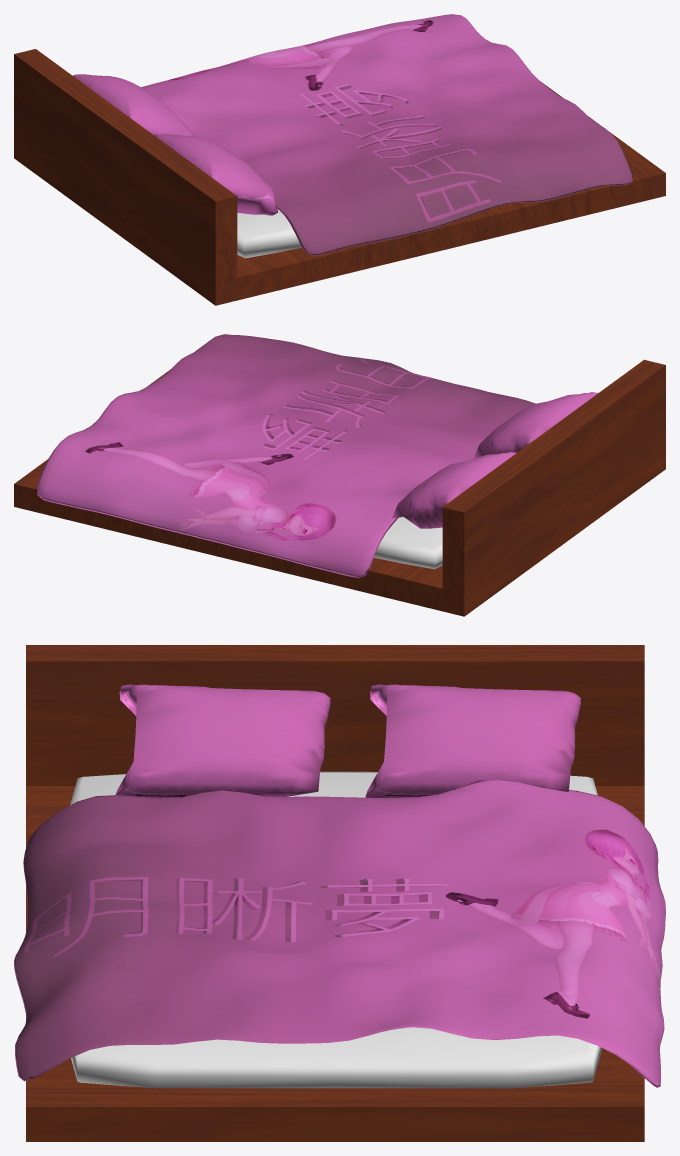
The model's file is yume_bed3.glb.
The picture shows the model from 3 angles, top to bottom: view 1: azimuth 30°, elevation 25°; view 2: azimuth 150°, elevation 25°; view 3: azimuth 270°, elevation 25°; orthographic projection. The views are drawn at different scales.
Parts seen in each view (by area): view 1: cushion.002; view 2: cushion.002; view 3: cushion.002.
Boxes of the visible parts, box(x1,y1,x2,y2) form: cushion.002: box(14, 14, 665, 305); cushion.002: box(14, 334, 665, 616); cushion.002: box(14, 645, 665, 1141).
Size of the model in its own units: 10.32 by 2.28 by 8.43.
Materials: 2 (2 with a texture image).
